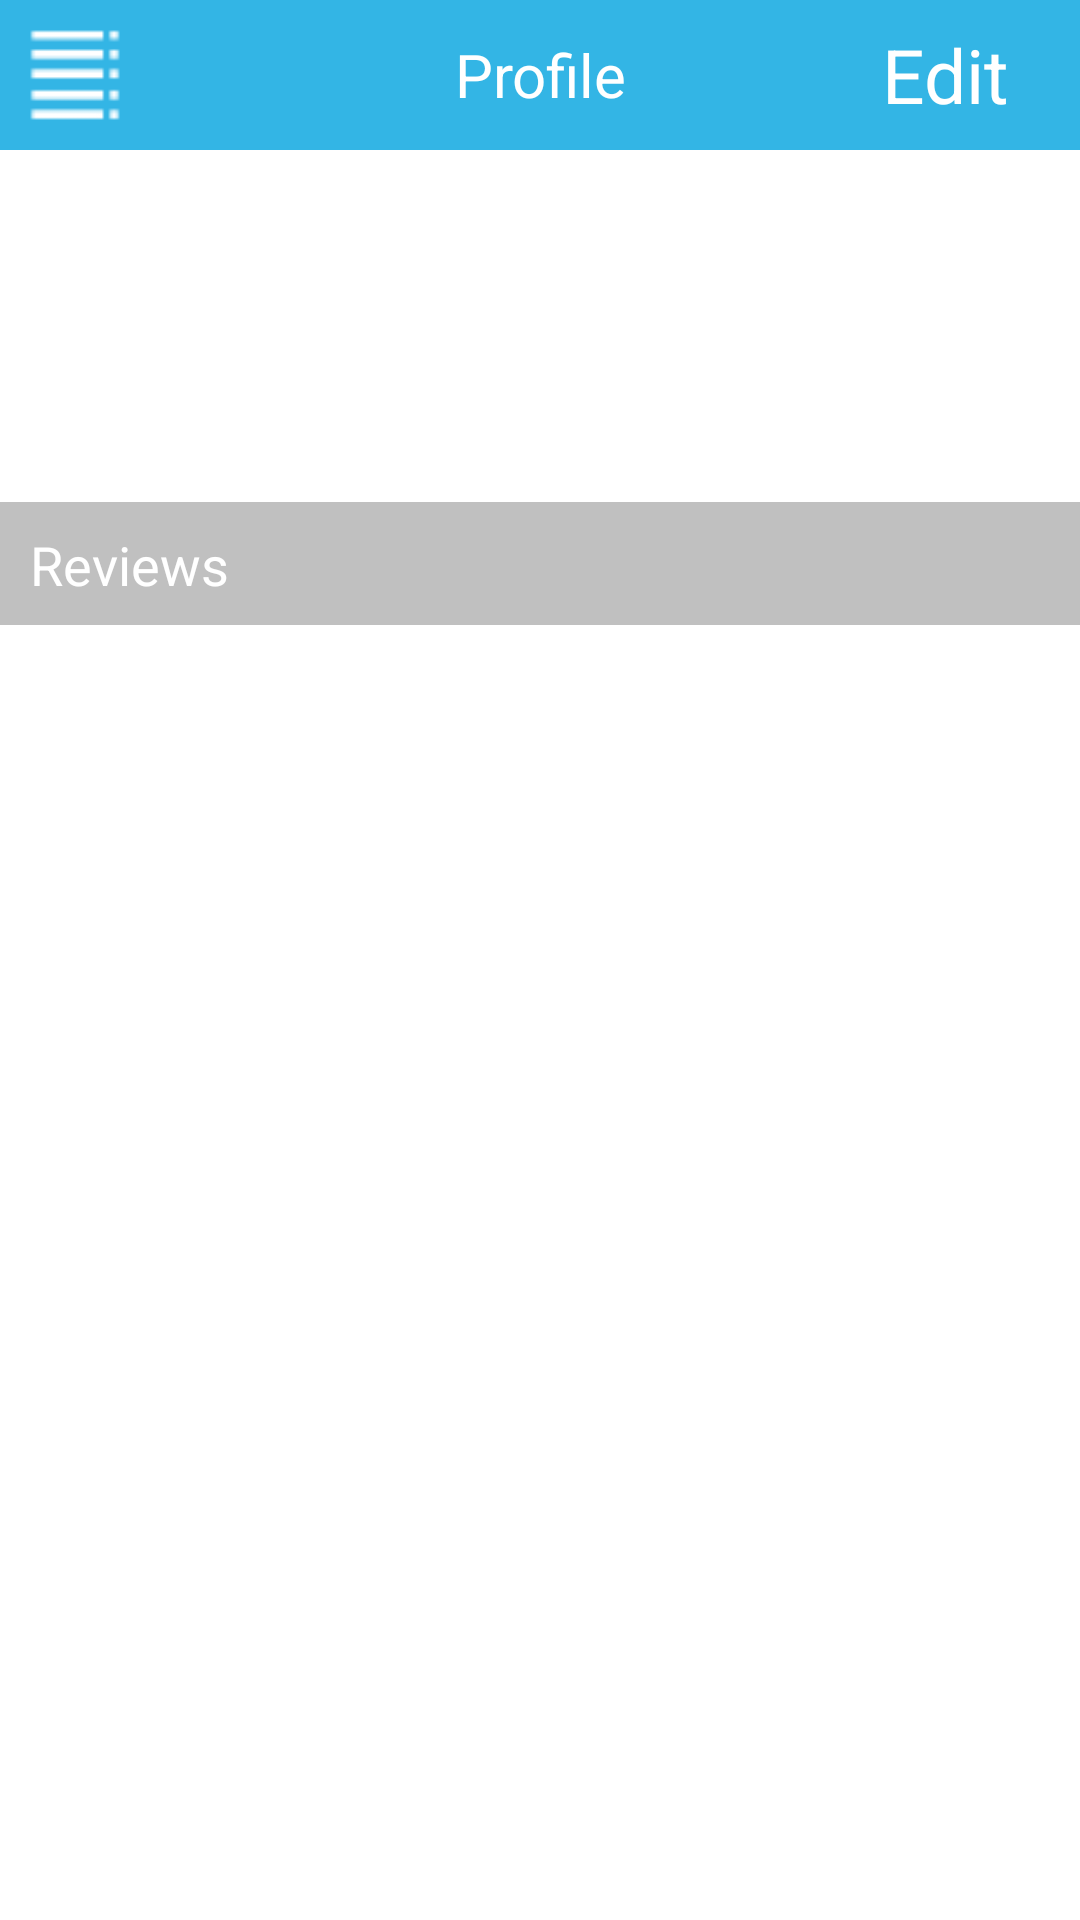

Named icons in this screenshot (1080px×1920px) and their bounding boxes, bbox=(x1, y1, x2, y2):
navigation: bbox=(30, 30, 120, 120)
